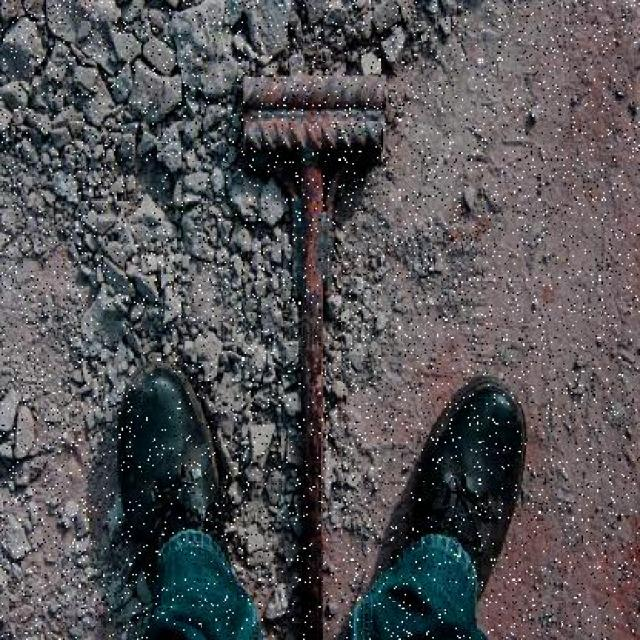shoes: (110, 367, 258, 621), (406, 370, 526, 618)
